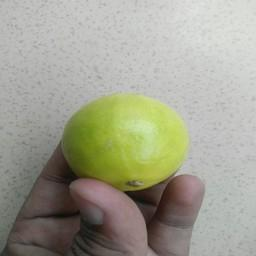Good_lime: (58, 88, 197, 190)
